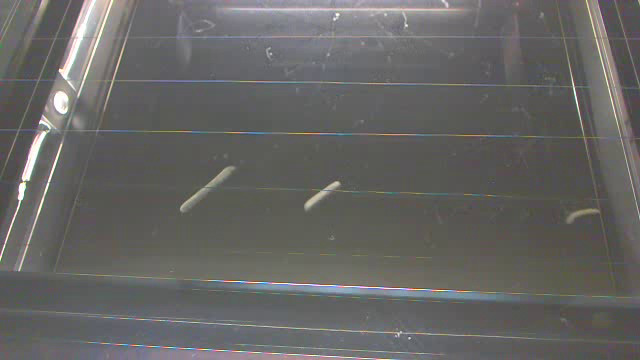alpha: (177, 162, 238, 215), (301, 178, 343, 215), (564, 201, 601, 228)
